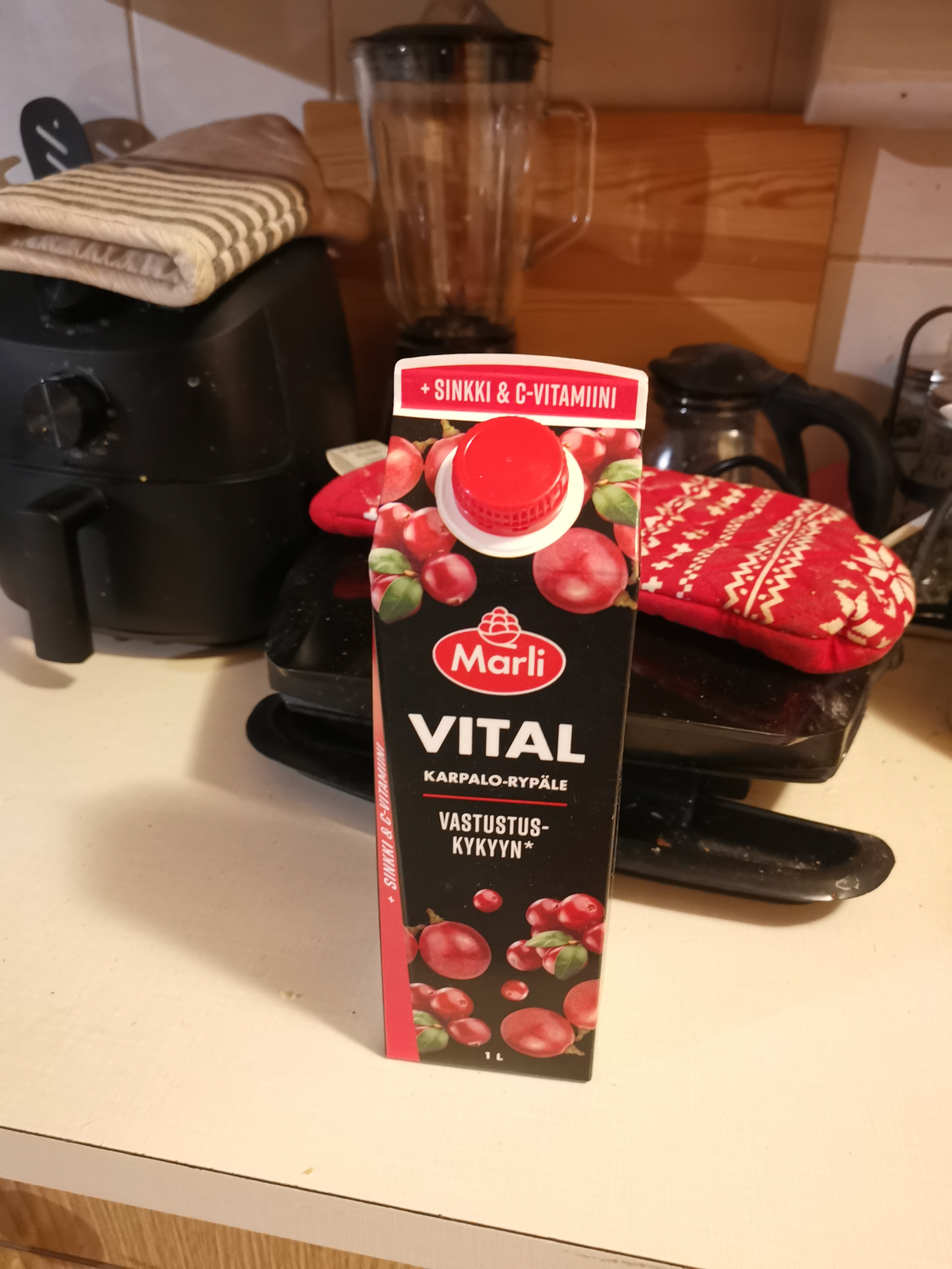Dryckeskartong: (365, 350, 651, 1086)
